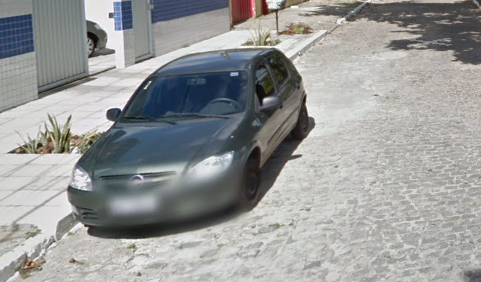car: (66, 41, 312, 236)
